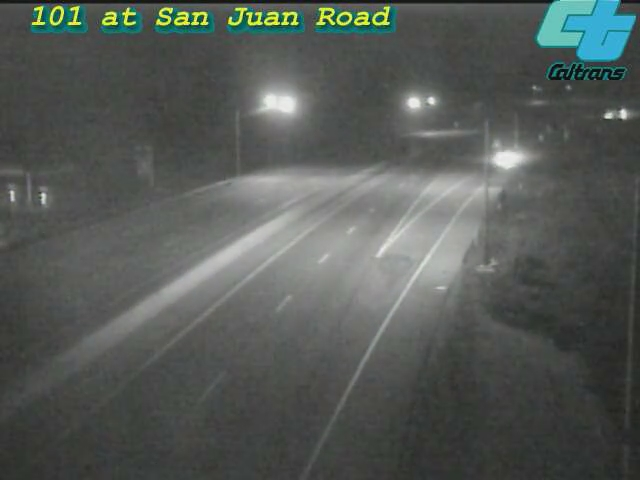vehicle: (484, 133, 534, 183), (596, 89, 640, 139)
